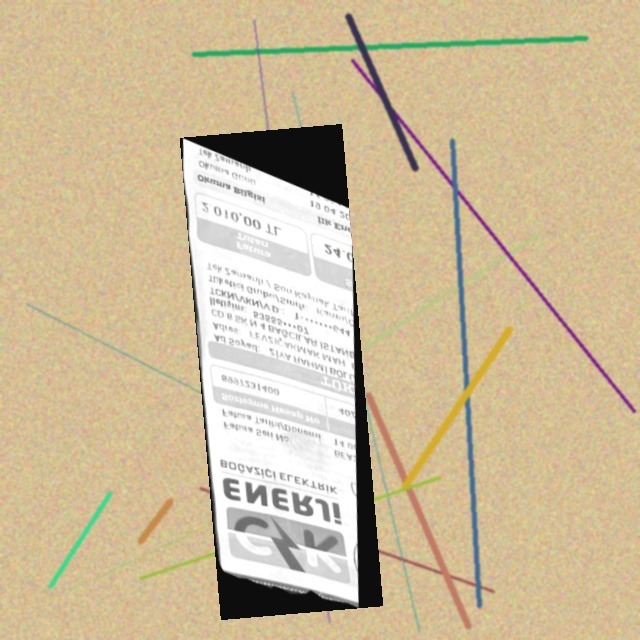electricity-bill: (180, 124, 383, 620)
